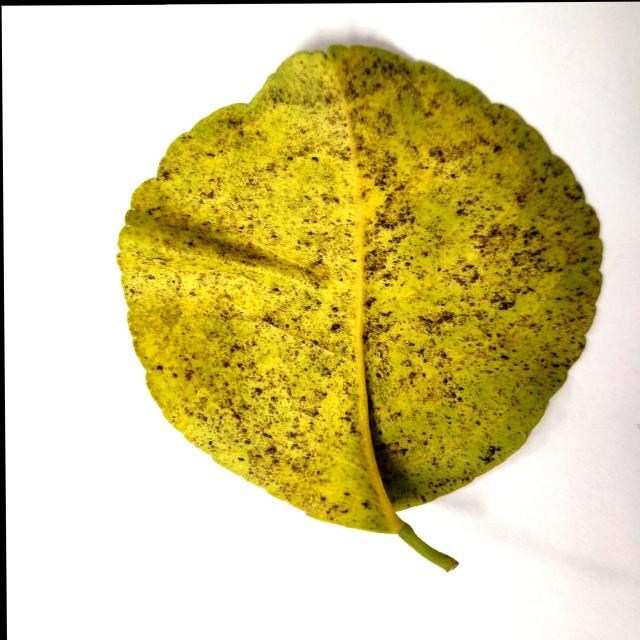melanose: (119, 46, 601, 570)
